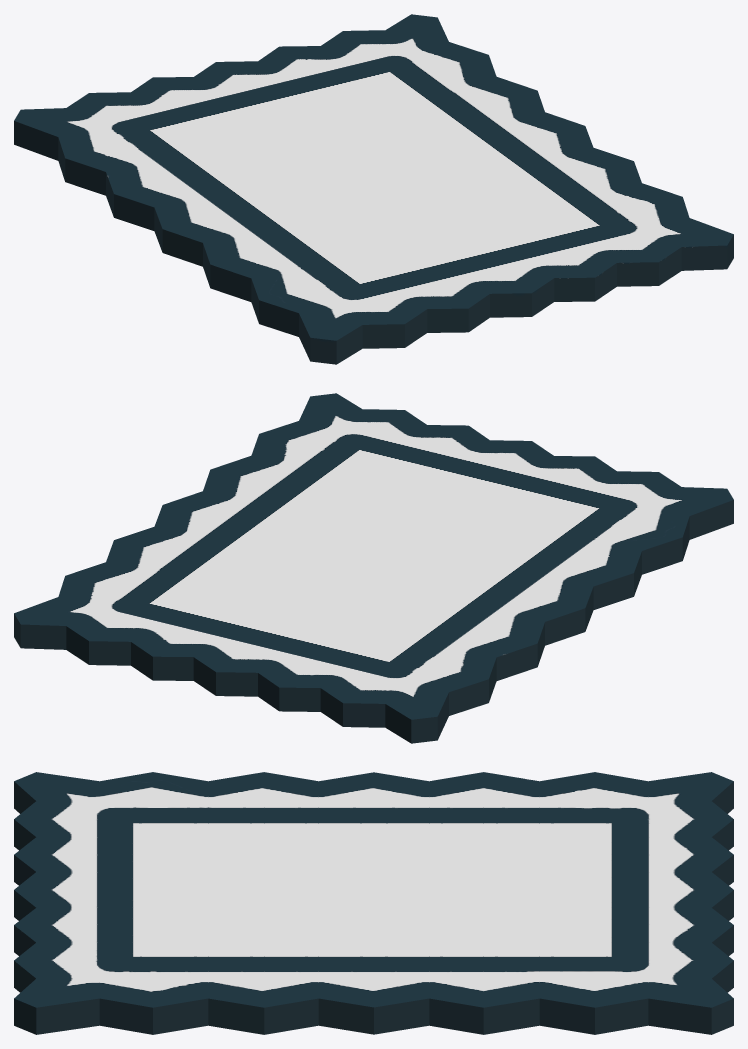
File: Mark.fbx
The picture shows the model from 3 angles, top to bottom: view 1: azimuth 30°, elevation 25°; view 2: azimuth 150°, elevation 25°; view 3: azimuth 270°, elevation 25°; orthographic projection. The views are drawn at different scales.
Visible parts, largest first — view 1: Plane.001; view 2: Plane.001; view 3: Plane.001.
Boxes of the visible parts, left/top/right/bottom form: Plane.001: left=14, top=14, right=733, bottom=364; Plane.001: left=14, top=393, right=733, bottom=743; Plane.001: left=14, top=772, right=733, bottom=1034.
Bounding box in the file's own units: 186 × 10 × 240.
